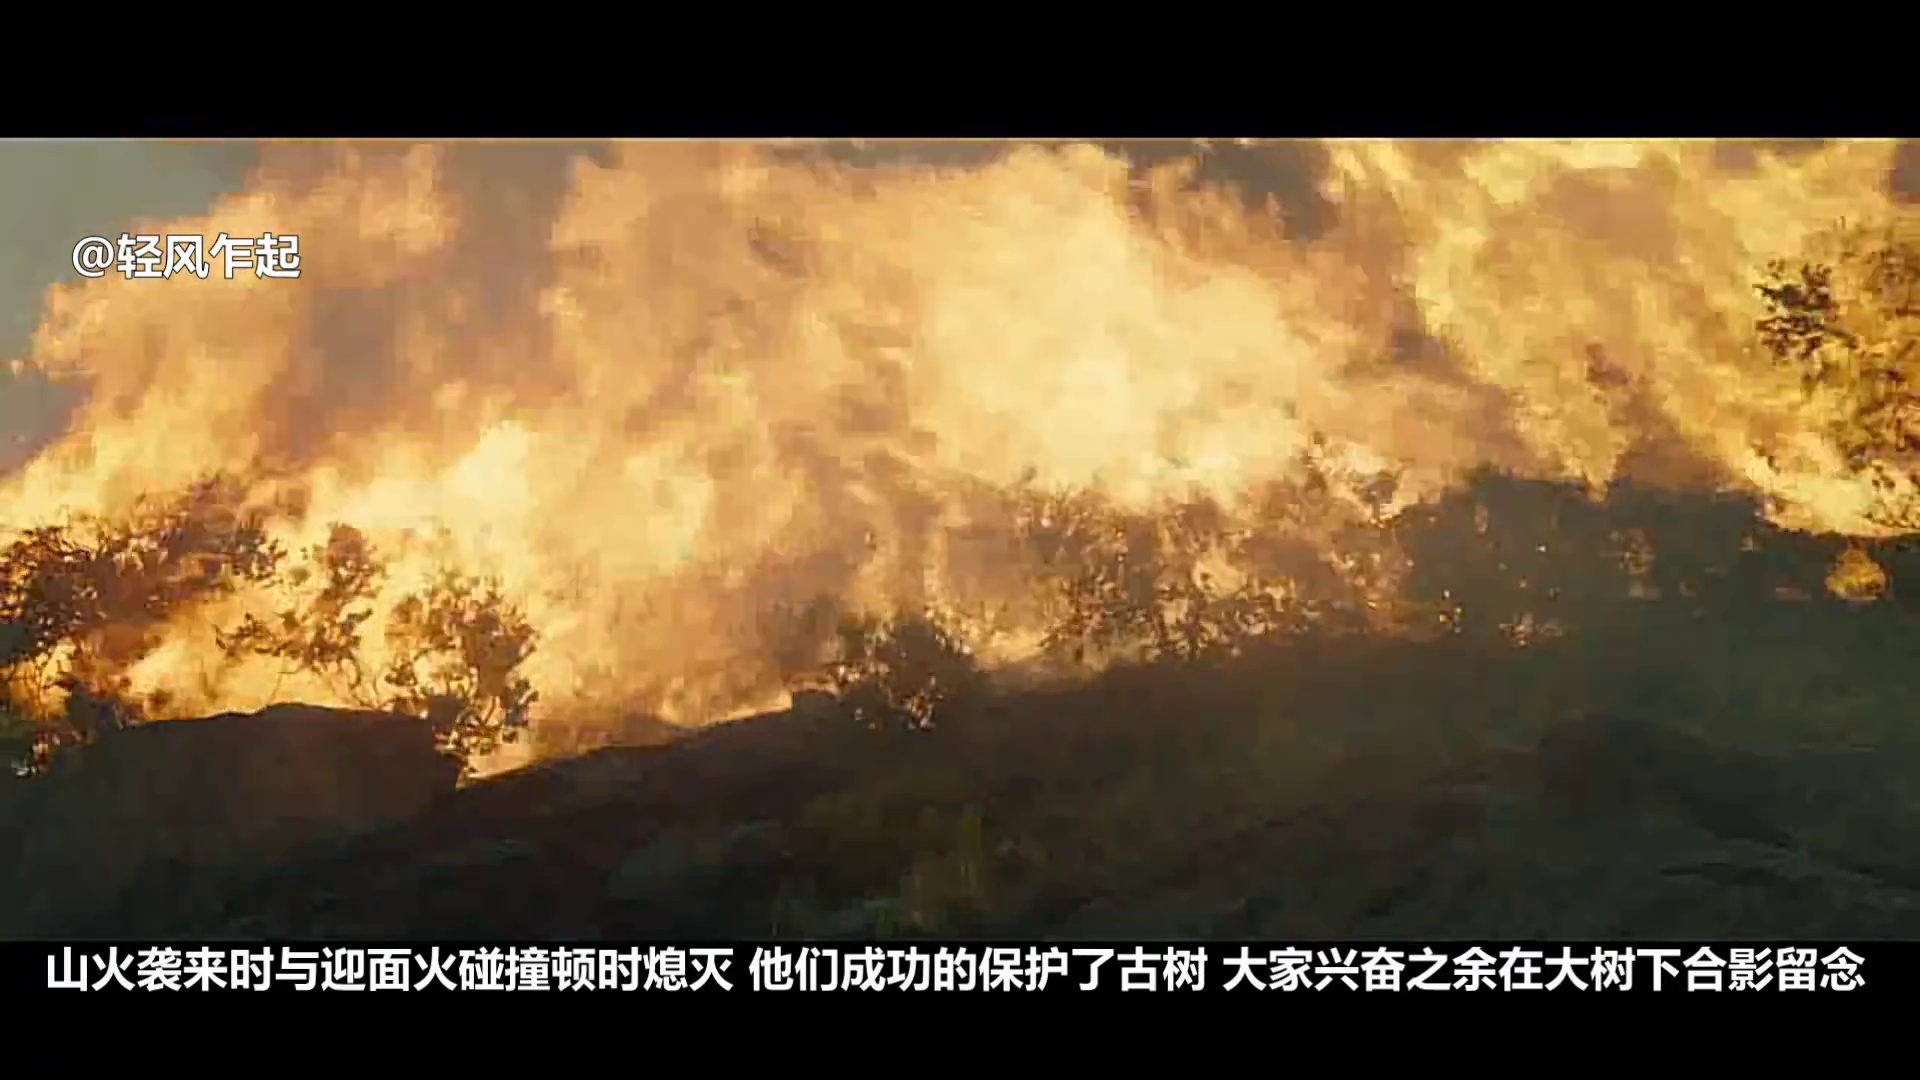fire: (6, 123, 1920, 723)
